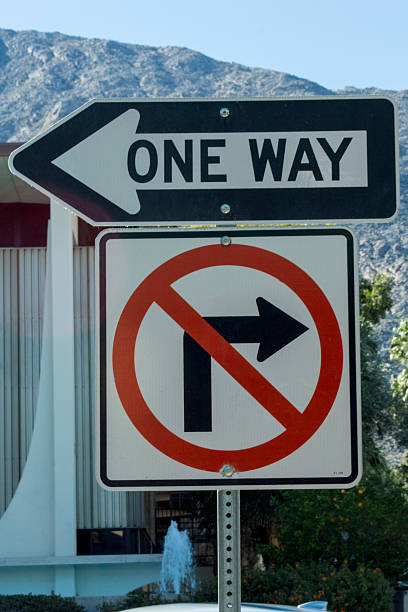saga_donulmez: (111, 240, 345, 474)
